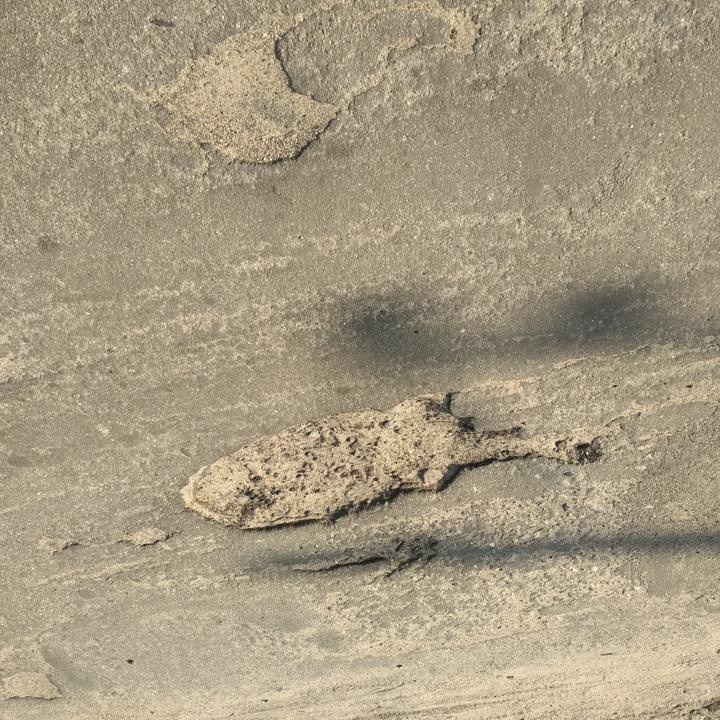pothole: (173, 388, 606, 538), (171, 8, 342, 169), (283, 531, 443, 583), (0, 667, 66, 708), (116, 526, 171, 552)
